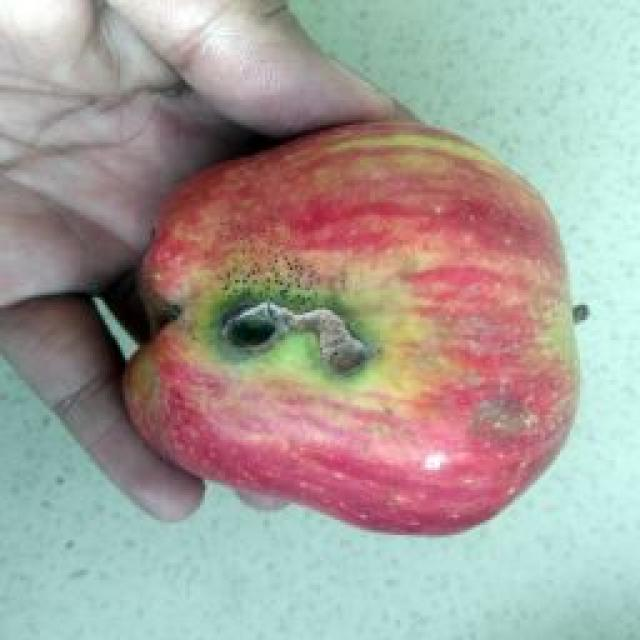Bad_Apple: (125, 122, 574, 533)
